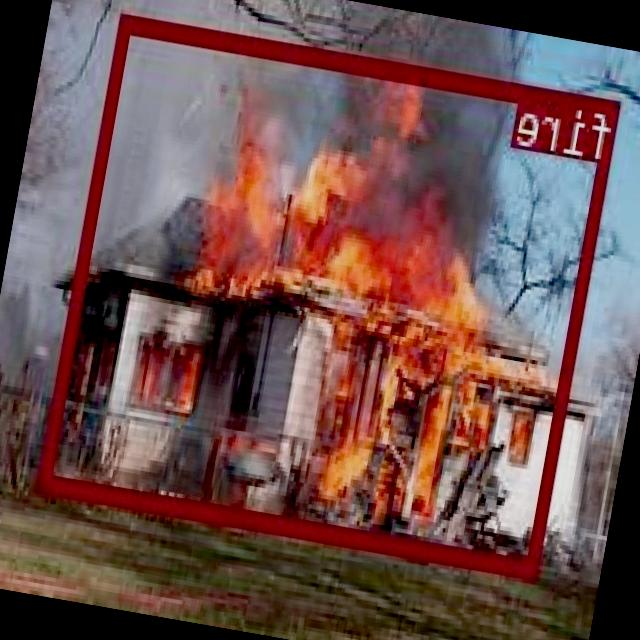fire: (40, 11, 622, 574)
